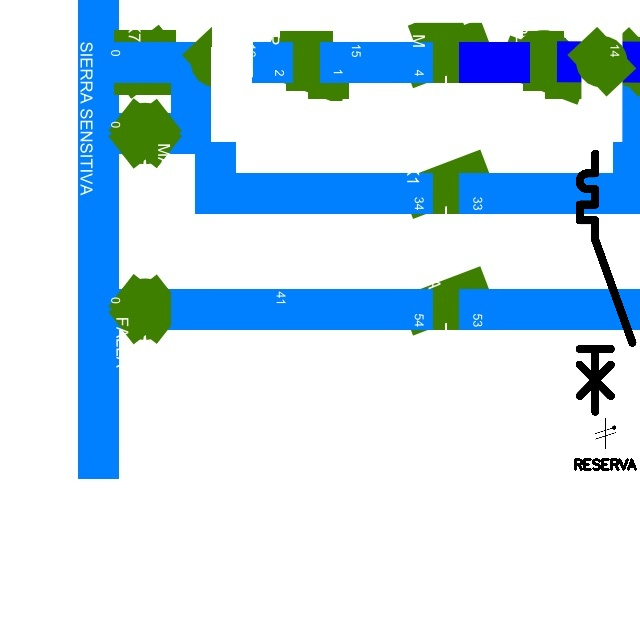interruptor_termomagnetico: (573, 147, 639, 418)
